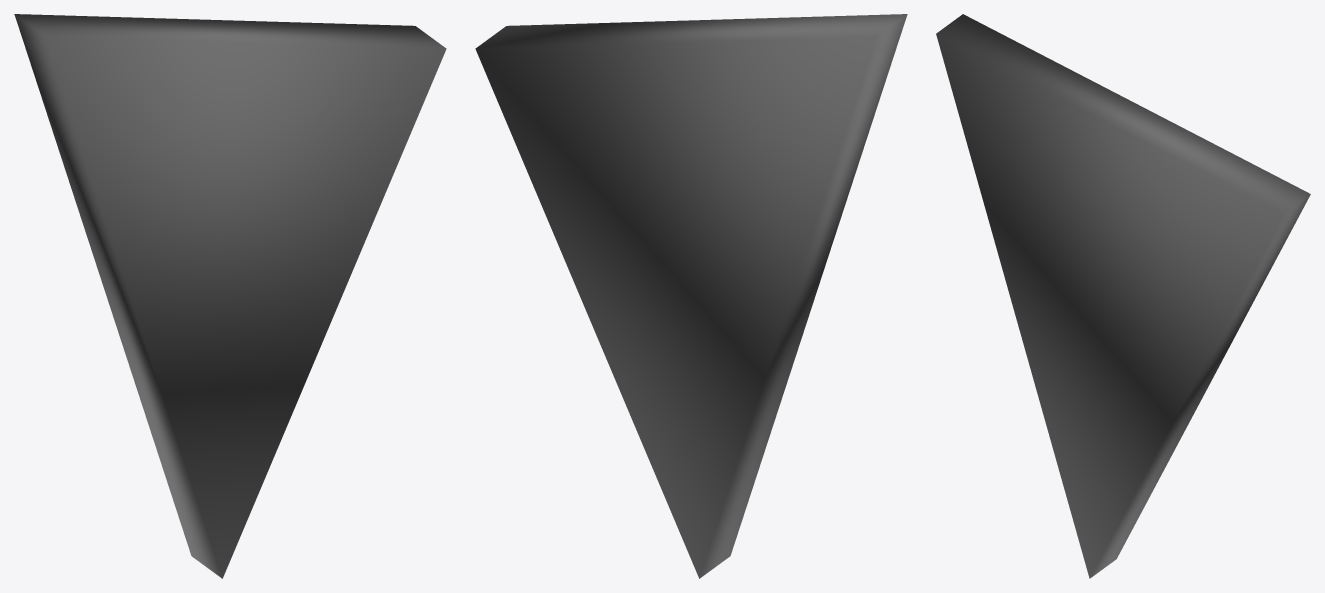
The model's file is Shard3.fbx.
3 renders of one model, left to right at view 1: azimuth 30°, elevation 25°; view 2: azimuth 150°, elevation 25°; view 3: azimuth 330°, elevation 25°, orthographic. The views are drawn at different scales.
Visible parts, largest first — view 1: Shard.002; view 2: Shard.002; view 3: Shard.002.
Boxes of the visible parts, <box> form: Shard.002: <box>14,14,446,578</box>; Shard.002: <box>475,14,907,578</box>; Shard.002: <box>936,14,1310,578</box>.
Bounding box in the file's own units: 7.43 × 10.36 × 1.
Materials: 1 (1 with a texture image).
